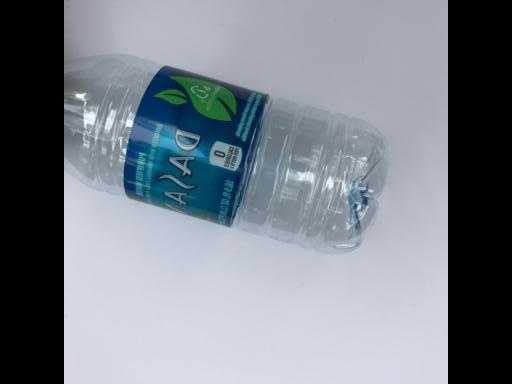plastic: (68, 50, 389, 258)
